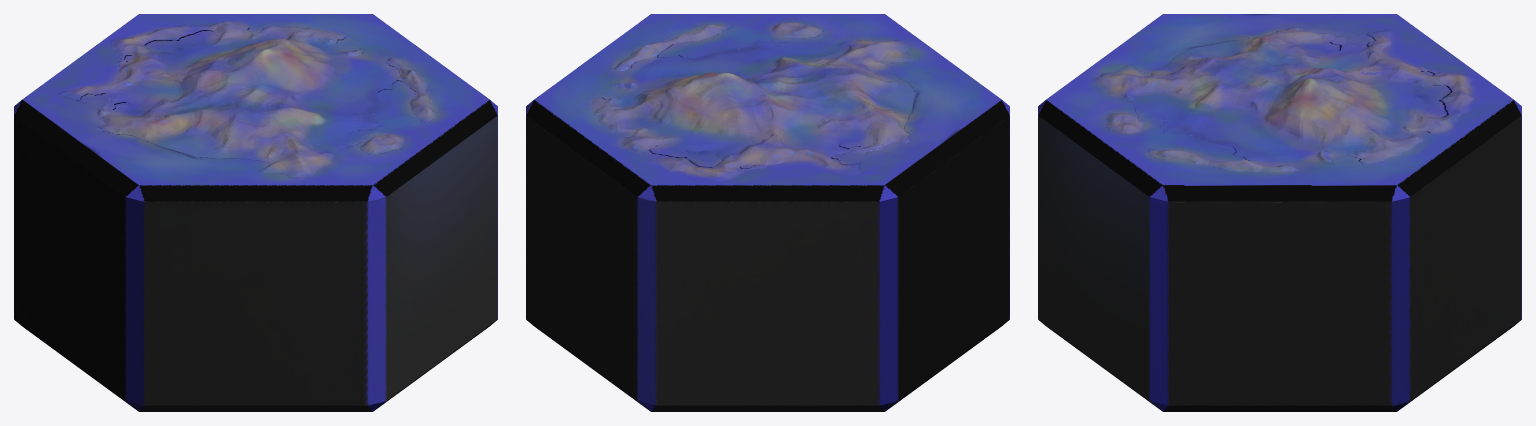
Rendered from 01.Blue (large).fbx.
3 renders of one model, left to right at view 1: azimuth 30°, elevation 25°; view 2: azimuth 150°, elevation 25°; view 3: azimuth 270°, elevation 25°, orthographic.
Visible parts, largest first — view 1: 02.Blue.002; view 2: 02.Blue.002; view 3: 02.Blue.002.
Part boxes in pixels (x1,y1,x2,y2): 02.Blue.002: (14,14,497,411); 02.Blue.002: (526,14,1009,411); 02.Blue.002: (1038,14,1521,411).
Bounding box in the file's own units: 447 × 297 × 503.
Materials: 1 (1 with a texture image).
